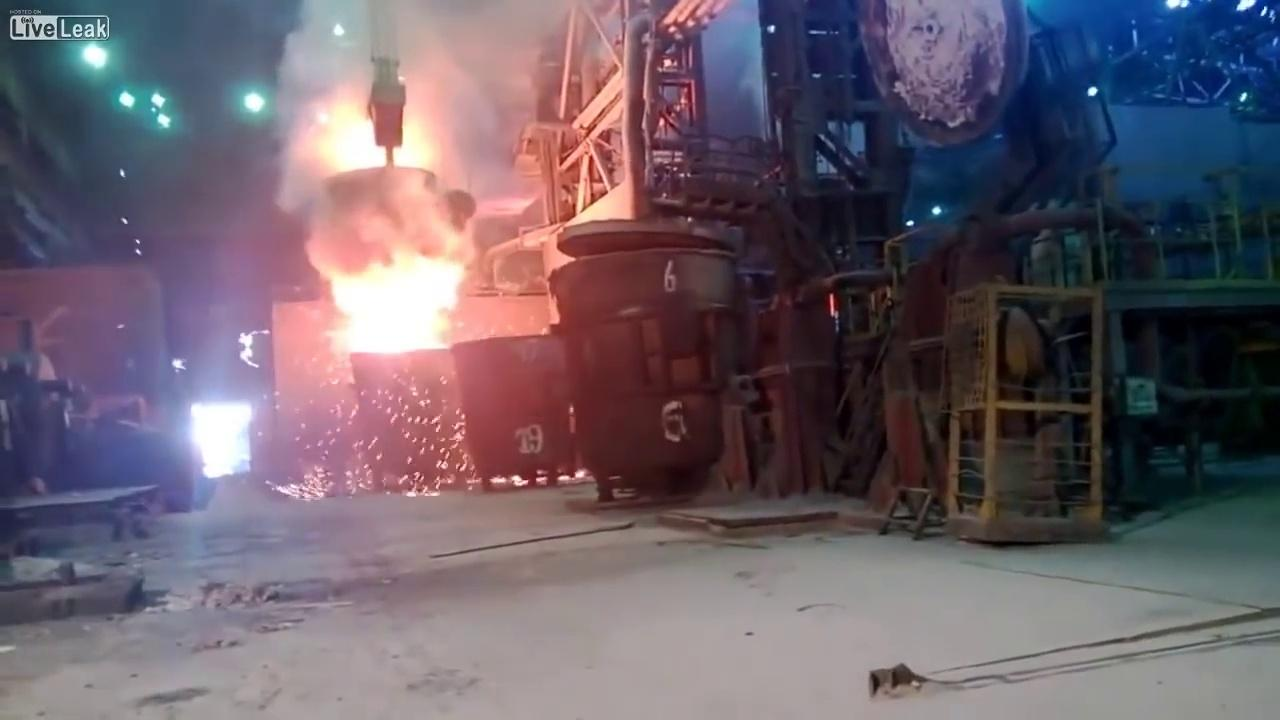fire: (256, 23, 546, 404)
